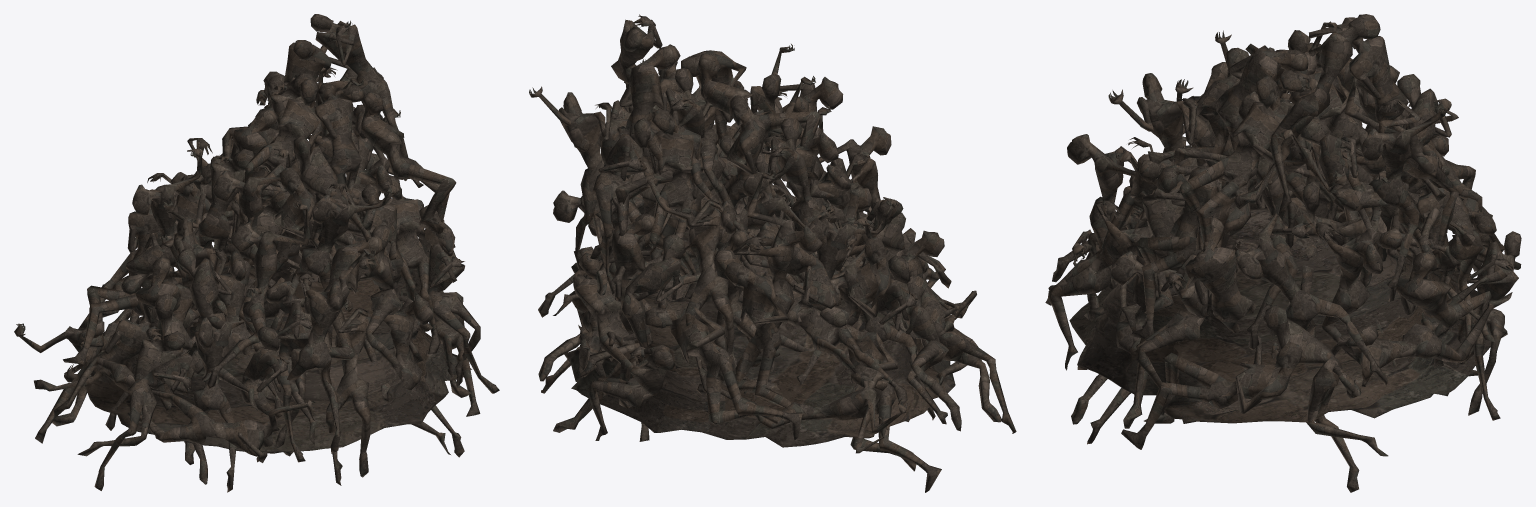
The model's file is aeg277_091.glb.
The picture shows the model from 3 angles, left to right: view 1: azimuth 30°, elevation 25°; view 2: azimuth 150°, elevation 25°; view 3: azimuth 270°, elevation 25°; orthographic projection. The views are drawn at different scales.
Visible parts, largest first — view 1: mesh[1], mesh[0]; view 2: mesh[1], mesh[0]; view 3: mesh[1], mesh[0].
Boxes of the visible parts, x1,y1,x2,y2 form: mesh[1]: (14, 14, 499, 492); mesh[0]: (85, 225, 471, 452); mesh[1]: (529, 14, 1016, 492); mesh[0]: (564, 200, 955, 447); mesh[1]: (1045, 14, 1521, 492); mesh[0]: (1069, 203, 1507, 423).
Bounding box in the file's own units: 5.13 × 4.57 × 4.63.
Materials: 2 (2 with a texture image).
